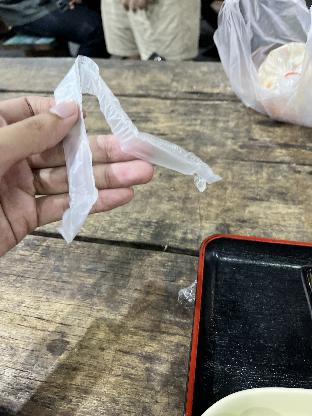Others: (51, 51, 222, 248), (212, 0, 312, 128)
